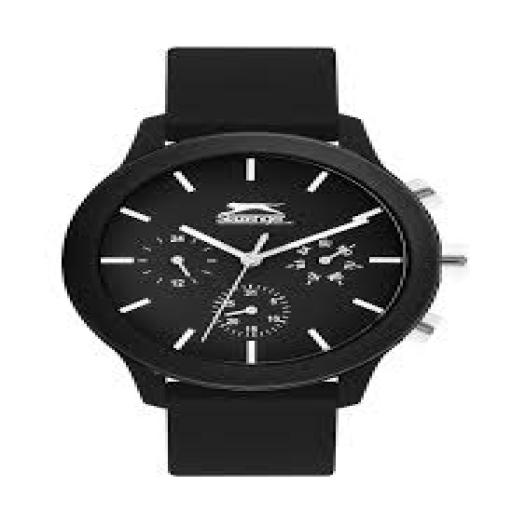KolSaati: (32, 17, 500, 487)
